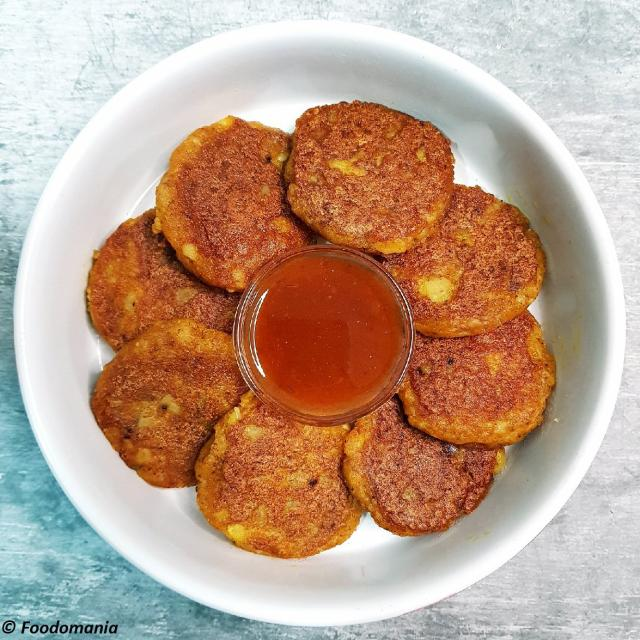Aloo Tikki: (195, 372, 367, 558), (94, 322, 264, 489), (162, 117, 312, 295), (280, 96, 453, 250), (395, 186, 551, 340), (88, 209, 245, 356), (402, 312, 557, 450), (346, 392, 496, 534)
